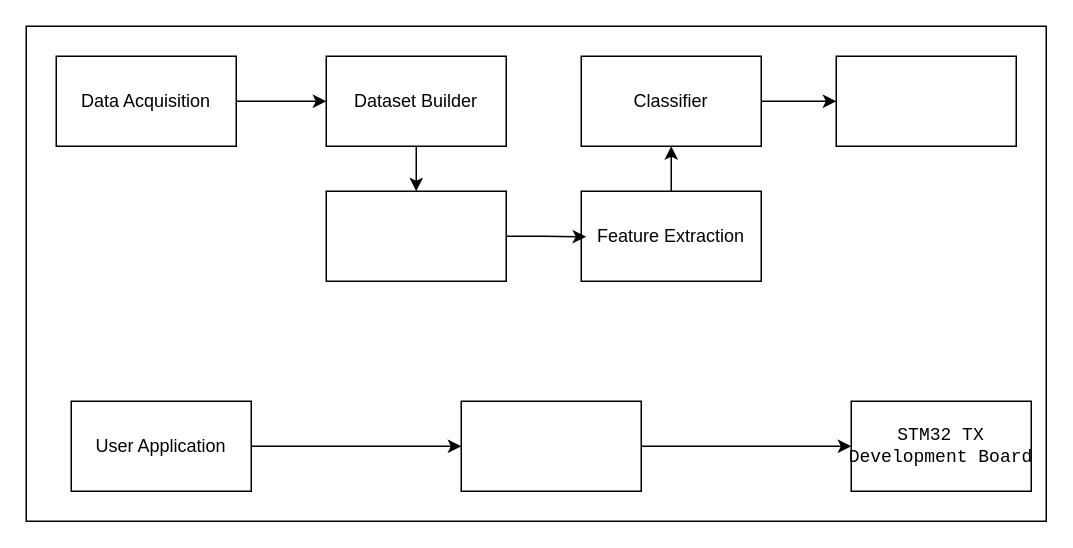
Image size: 1073x548. Some labels were removed from this diagram. The centre of each missing label's shape, as x and y in pixels:
Control Interface: (550,445)
Prediction: (925,100)
Preprocessing: (415,235)
